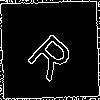R: (25, 25, 82, 83)
